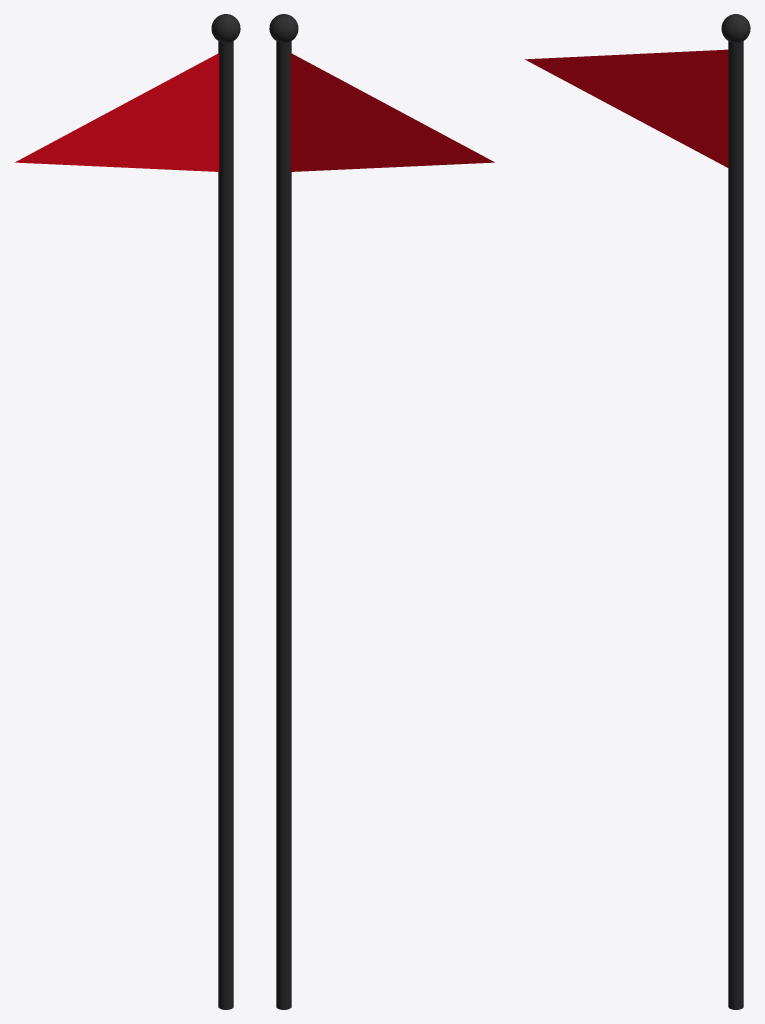
The model's file is flag.glb.
3 views of the same model, side by side, from view 1: azimuth 30°, elevation 25°; view 2: azimuth 150°, elevation 25°; view 3: azimuth 330°, elevation 25° (orthographic).
Visible parts, largest first — view 1: Plane.001; view 2: Plane.001; view 3: Plane.001.
Boxes of the visible parts, box(x1,y1,x2,y2) form: Plane.001: box(15, 14, 240, 1009); Plane.001: box(269, 14, 494, 1009); Plane.001: box(525, 14, 750, 1009).
Size of the model in its own units: 0.6957 by 2.94 by 0.0784.
